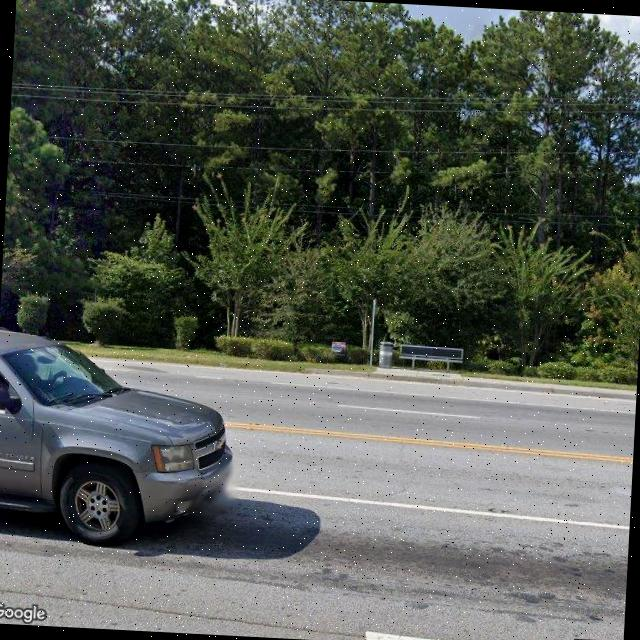seating: (398, 344, 465, 373)
trash_can: (379, 341, 394, 369)
